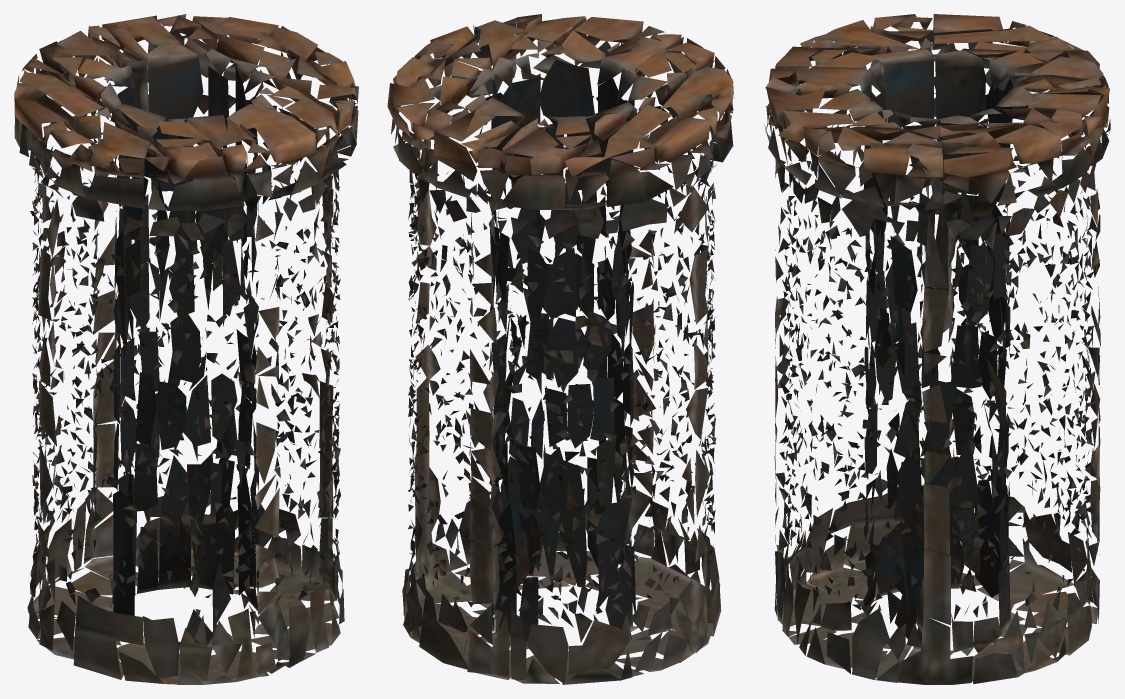
File: bin.glb
3 views of the same model, side by side, from view 1: azimuth 30°, elevation 25°; view 2: azimuth 150°, elevation 25°; view 3: azimuth 270°, elevation 25° (orthographic).
Visible parts, largest first — view 1: Mesh_0; view 2: Mesh_0; view 3: Mesh_0.
Part boxes in pixels (left/top/right/bottom): Mesh_0: left=14, top=14, right=358, bottom=684; Mesh_0: left=387, top=14, right=734, bottom=684; Mesh_0: left=764, top=14, right=1110, bottom=684.
Size of the model in its own units: 1.12 by 1.91 by 1.12.
Materials: 1 (1 with a texture image).
